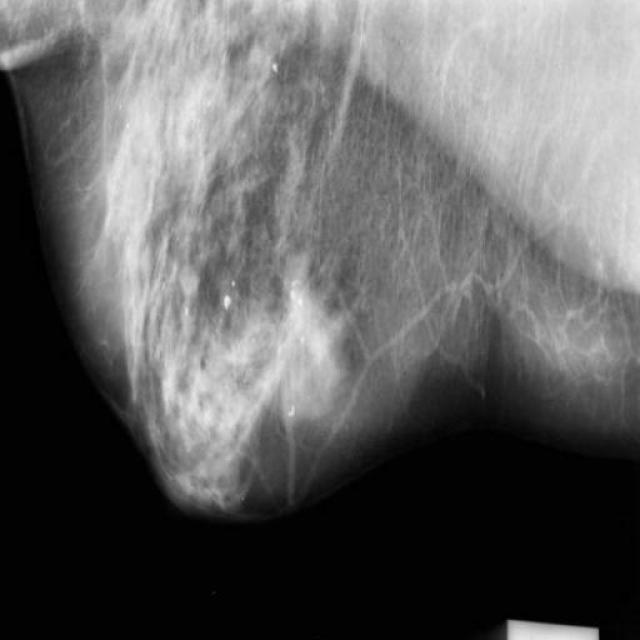cancer: (274, 365, 312, 427)
